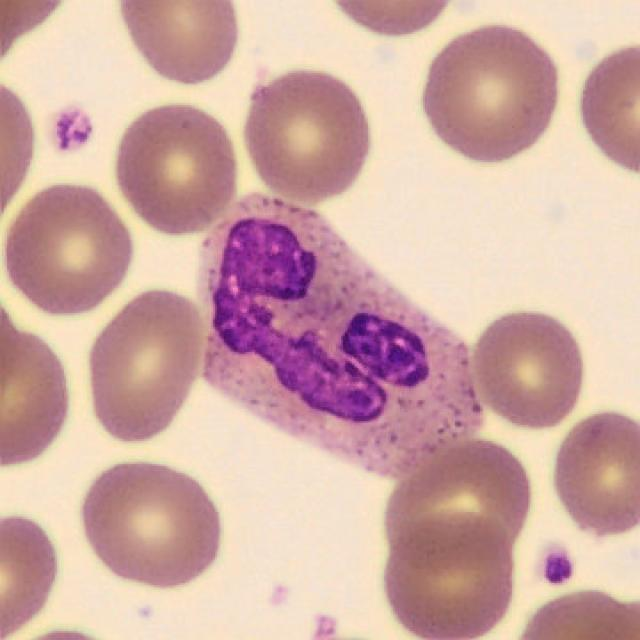Neutrofilo segmentado: (203, 194, 484, 482)
